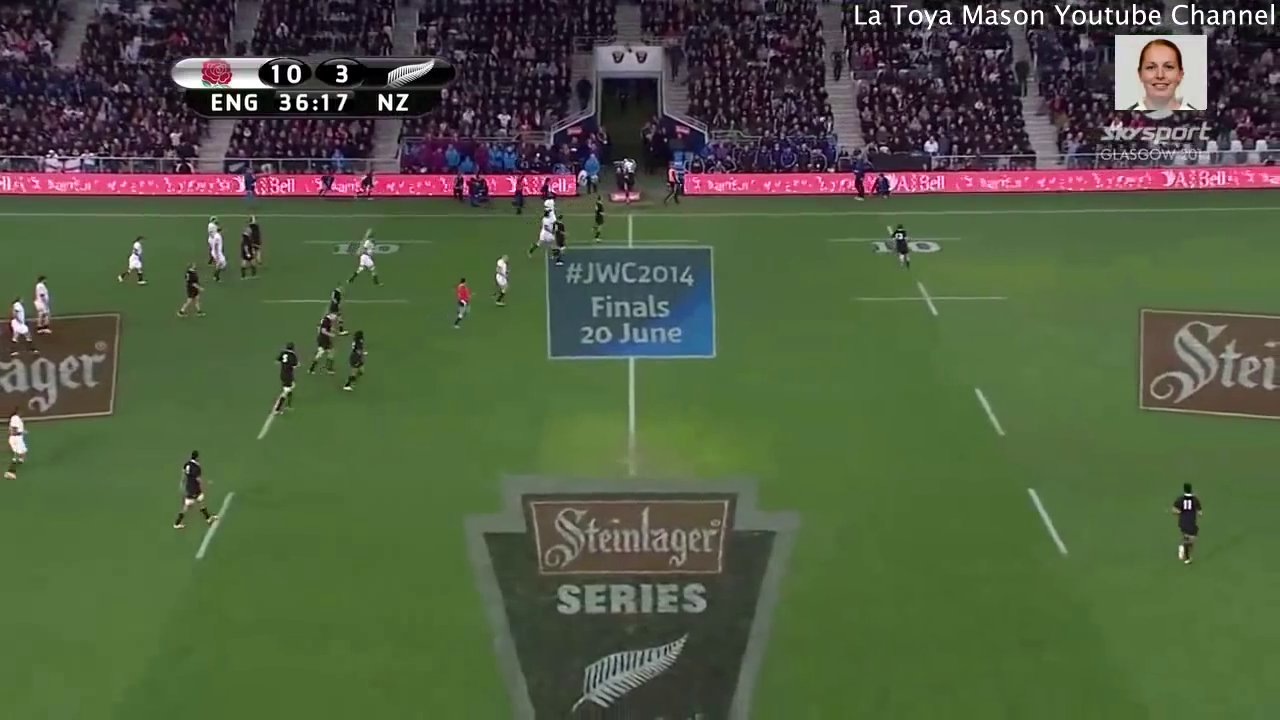10_metre: (849, 279, 1013, 320), (827, 222, 971, 264), (264, 286, 415, 326), (304, 226, 436, 265)
player: (172, 447, 220, 534), (1166, 477, 1205, 568), (1, 407, 33, 481), (7, 295, 41, 362), (342, 326, 372, 396), (115, 234, 153, 289), (307, 316, 340, 379), (273, 339, 297, 416), (348, 235, 384, 286), (886, 218, 917, 272), (177, 259, 205, 316), (488, 252, 514, 313), (31, 272, 56, 335), (235, 224, 261, 284), (525, 209, 553, 264), (450, 276, 474, 328), (209, 226, 230, 285), (550, 212, 567, 265), (588, 195, 607, 240), (204, 212, 217, 270), (321, 284, 344, 316), (253, 212, 266, 268), (537, 191, 560, 216)
